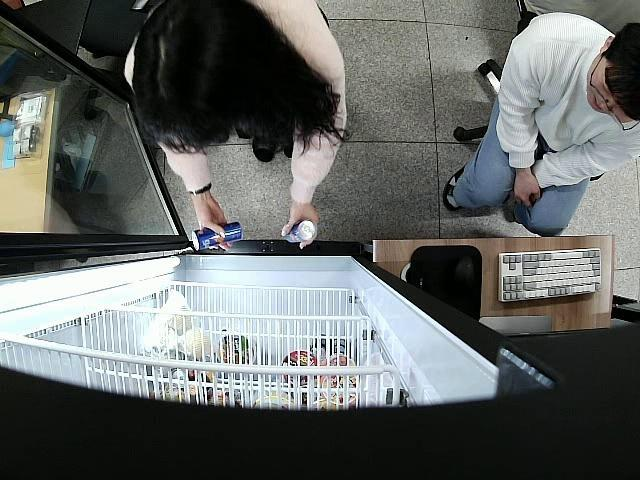16_hot6: (192, 220, 244, 251), (282, 219, 316, 244)
